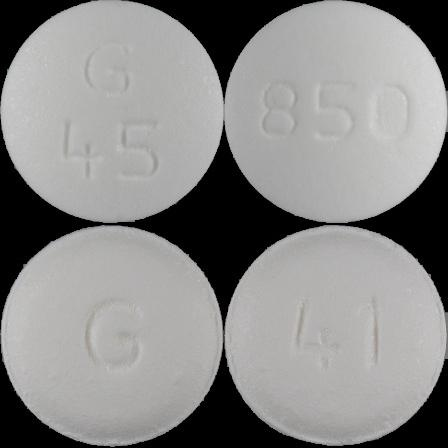68462-160: (0, 0, 224, 224)
